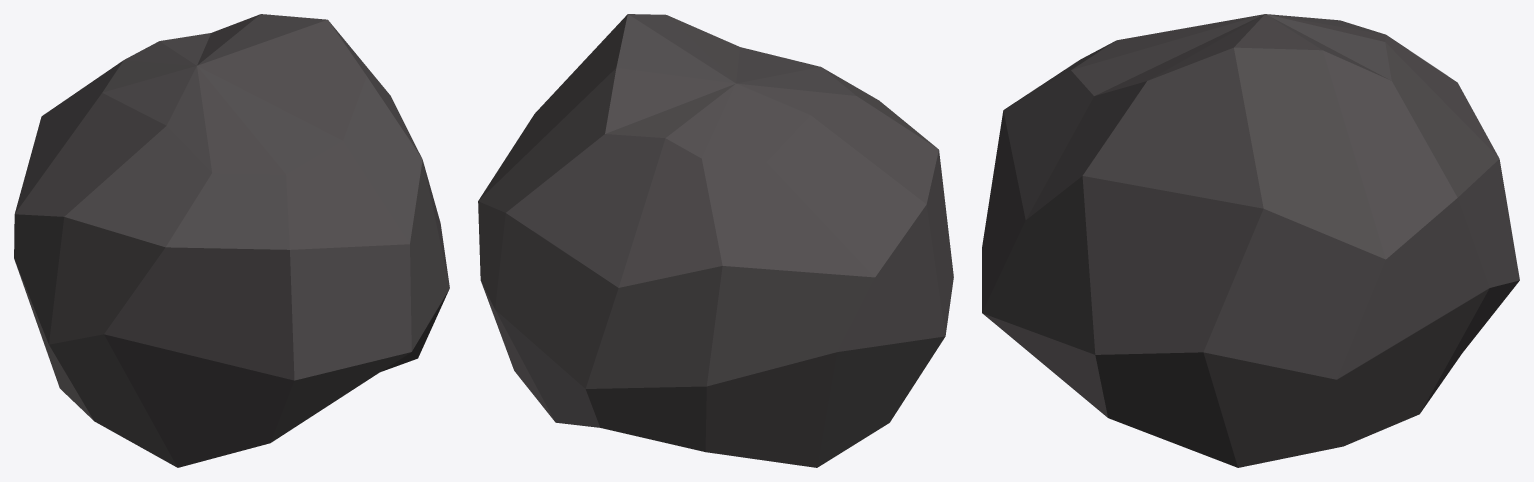
Rendered from pierre_volcan.FBX.
The picture shows the model from 3 angles, left to right: view 1: azimuth 30°, elevation 25°; view 2: azimuth 150°, elevation 25°; view 3: azimuth 270°, elevation 25°; orthographic projection. The views are drawn at different scales.
Visible parts, largest first — view 1: Sphere009; view 2: Sphere009; view 3: Sphere009.
Part boxes in pixels (x1=…): Sphere009: x1=14, y1=14, x2=449, y2=467; Sphere009: x1=478, y1=14, x2=953, y2=467; Sphere009: x1=982, y1=14, x2=1519, y2=467.
Size of the model in its own units: 89.45 by 80.51 by 93.43.
Materials: 1 (1 with a texture image).
